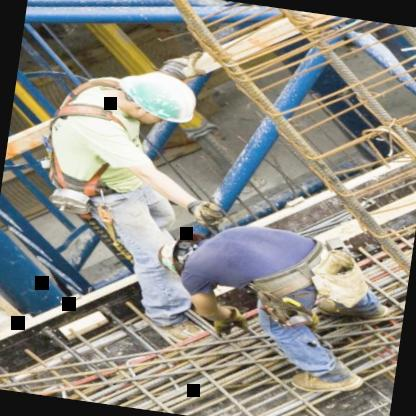helmet: (96, 60, 214, 140), (146, 222, 216, 284)
